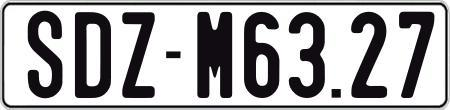2: (349, 10, 389, 98)
3: (286, 9, 328, 101)
6: (243, 9, 280, 100)
7: (396, 10, 435, 98)
D: (72, 9, 108, 101)
M: (196, 10, 236, 102)
S: (28, 8, 67, 97)
Z: (119, 12, 156, 104)
